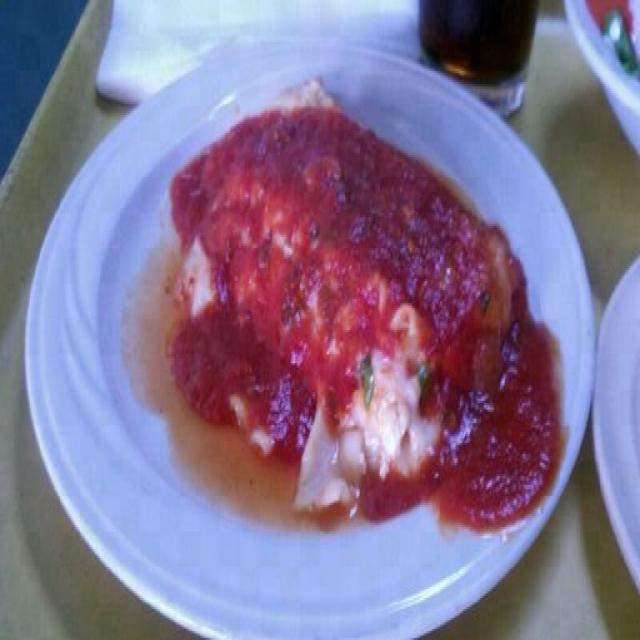Lasagna: (150, 73, 526, 558)
